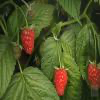Raspberry leaf: (6, 69, 61, 99), (76, 22, 99, 80), (25, 0, 57, 41), (0, 33, 19, 92), (60, 51, 81, 99), (41, 34, 60, 79)
